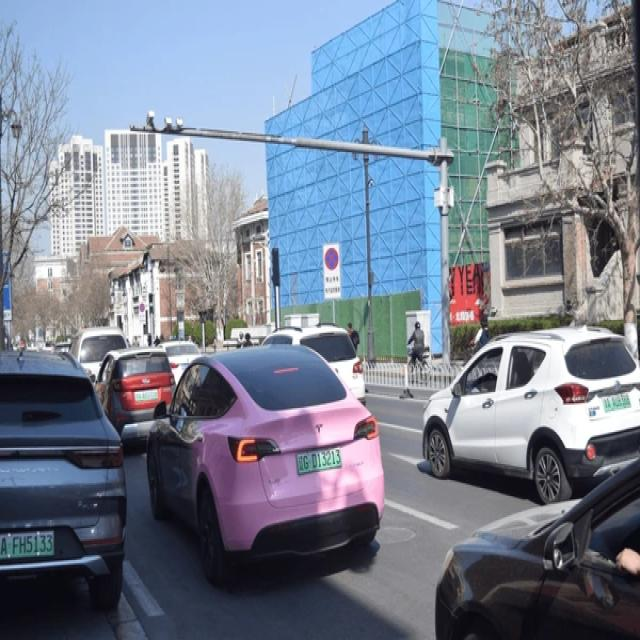tesla: (315, 421, 323, 435)
